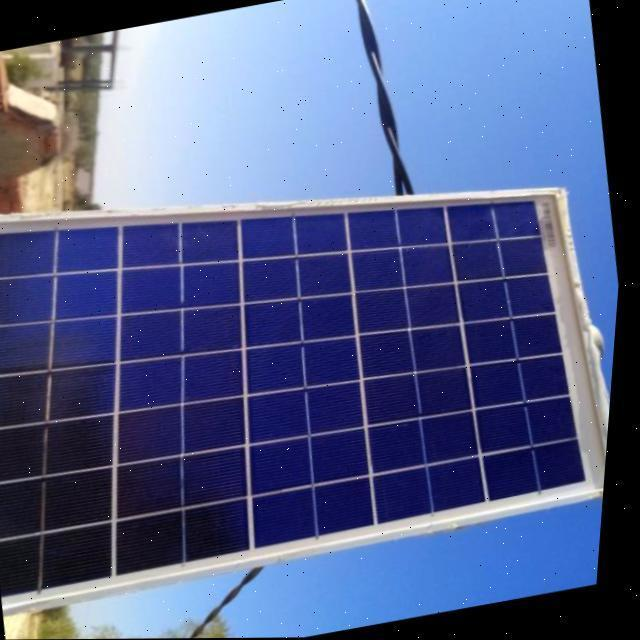Normal Solar Panel: (0, 107, 634, 611)
